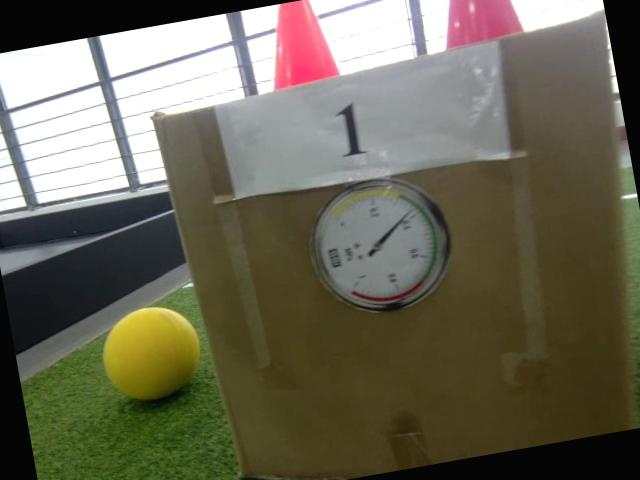1: (331, 101, 366, 157)
Dashboard: (299, 166, 462, 324)
orange_barrel: (258, 0, 341, 89)
red_barrel: (432, 0, 525, 47)
ssi: (327, 248, 342, 268)
yellow_ball: (94, 297, 210, 409)
